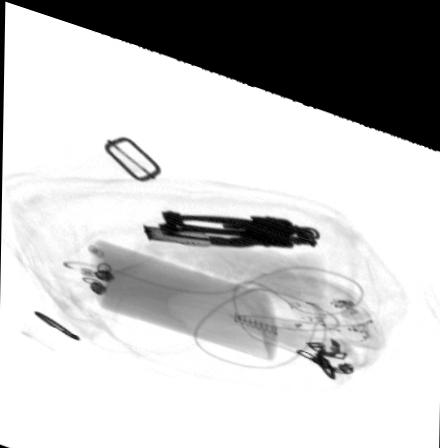Bullet: (140, 214, 244, 236)
HandCuffs: (137, 194, 320, 234)
